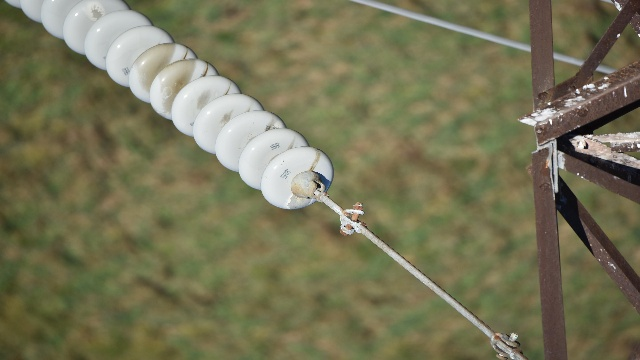insulator_unspecified: (7, 0, 335, 207)
pollution_flashover_local: (281, 189, 319, 209), (83, 0, 106, 23)
